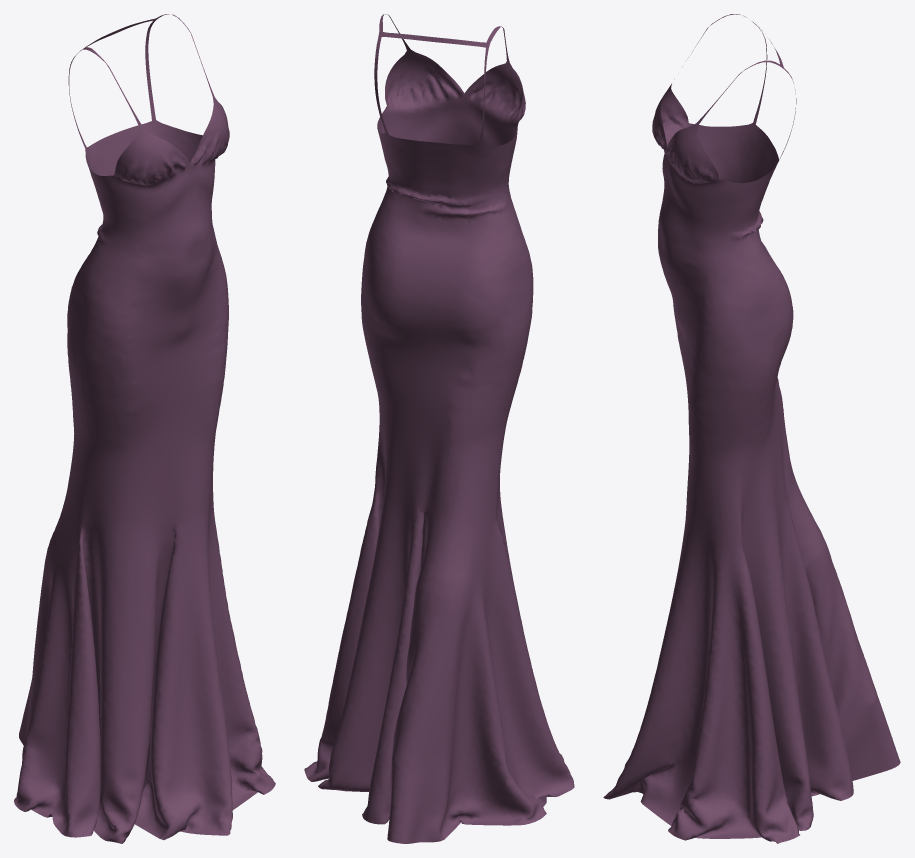
File: uploads_files_897731_Woman+lavender+gown.fbx
3 views of the same model, side by side, from view 1: azimuth 30°, elevation 25°; view 2: azimuth 150°, elevation 25°; view 3: azimuth 270°, elevation 25° (orthographic). The views are drawn at different scales.
Visible parts, largest first — view 1: Woman lavender gown; view 2: Woman lavender gown; view 3: Woman lavender gown.
Boxes of the visible parts, left/top/right/bottom form: Woman lavender gown: left=14, top=14, right=275, bottom=843; Woman lavender gown: left=304, top=14, right=574, bottom=843; Woman lavender gown: left=603, top=14, right=900, bottom=843.
Size of the model in its own units: 499 by 1592 by 572.
